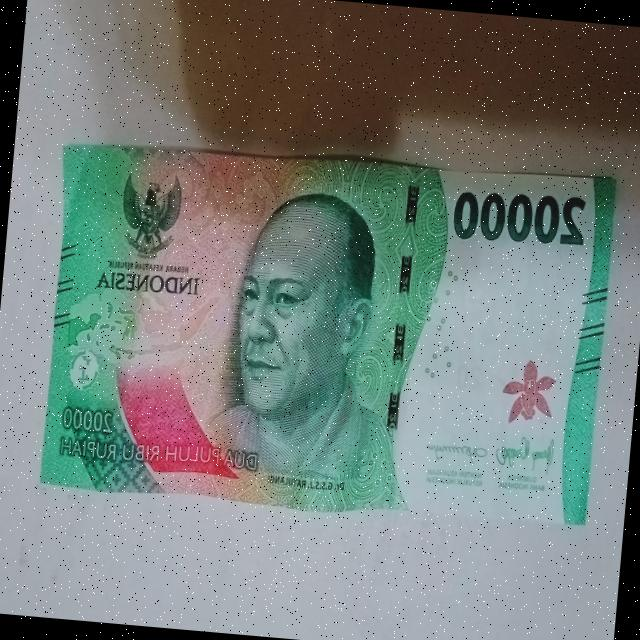20K: (30, 120, 620, 550)
